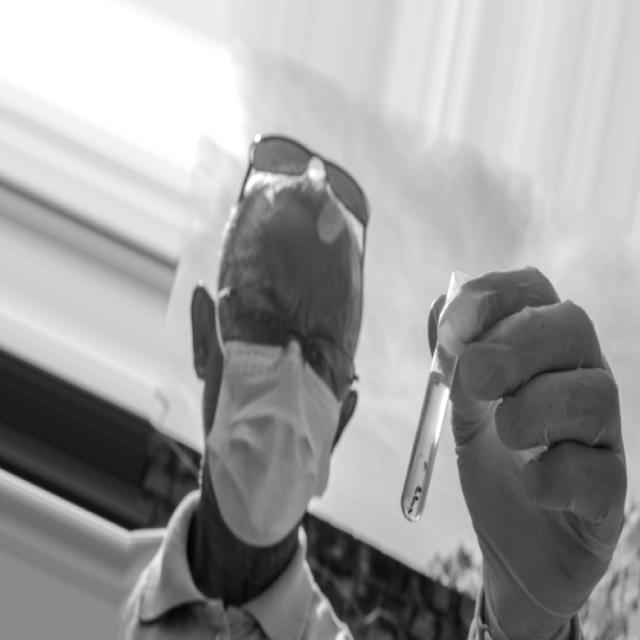larvas: (412, 496, 418, 506), (416, 485, 422, 494), (422, 460, 427, 470), (406, 507, 412, 513)
